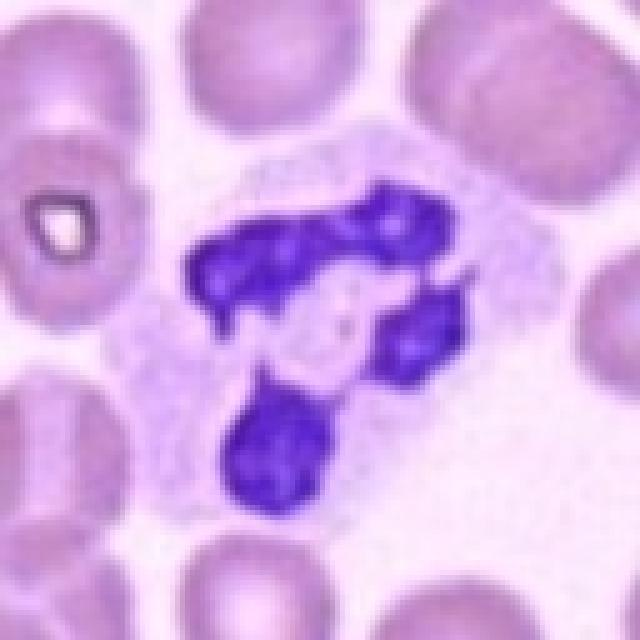neutro: (69, 85, 533, 511)
